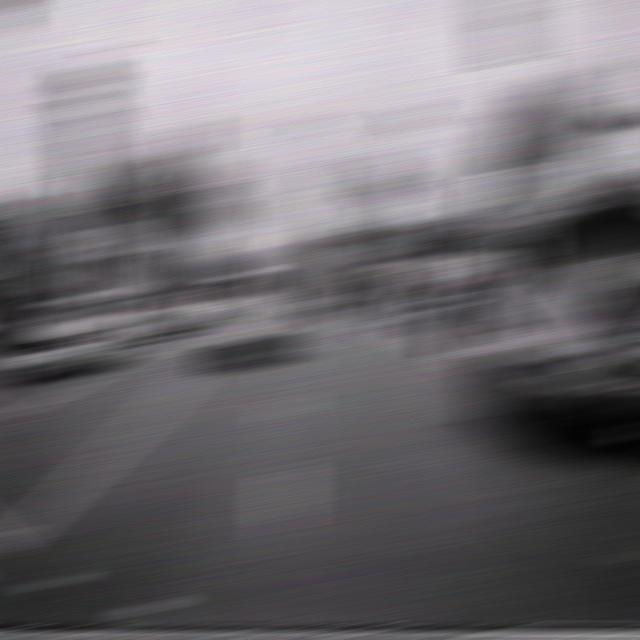speedLimit30: (505, 170, 552, 221)
